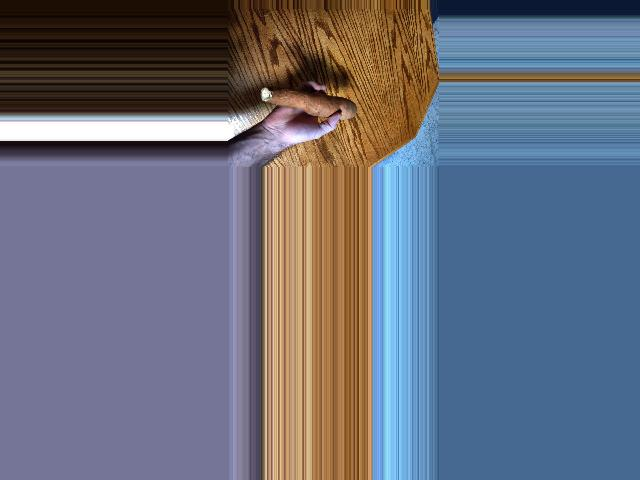sweet_potato: (252, 85, 360, 115)
